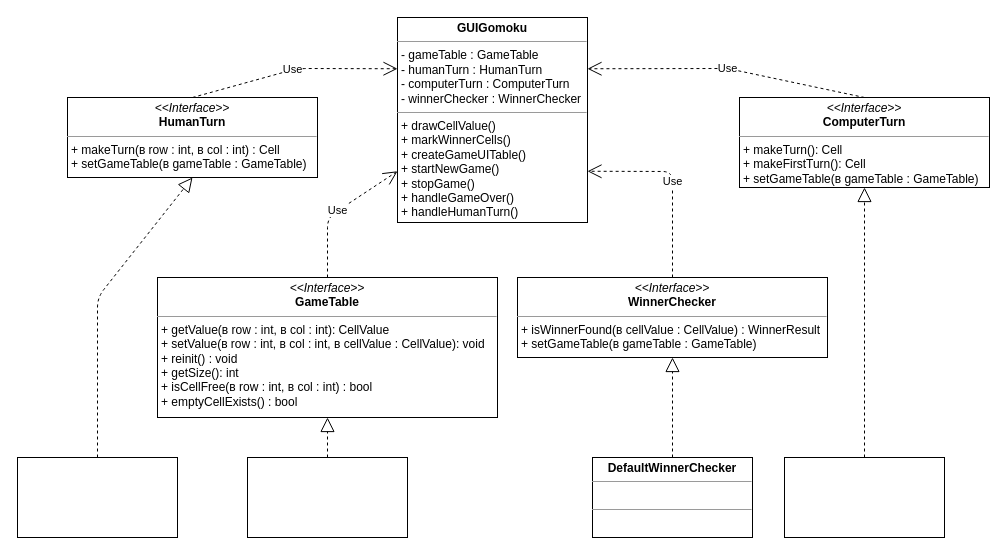
This 1007x555 diagram has some shape labels left out. Here are the shapes that lost their labels. From the top down, the box of each, then its label:
(16, 456, 178, 538): DefaultHumanTurn
(246, 456, 408, 538): DefaultGameTable
(784, 456, 944, 538): DefaultComputerTurn
